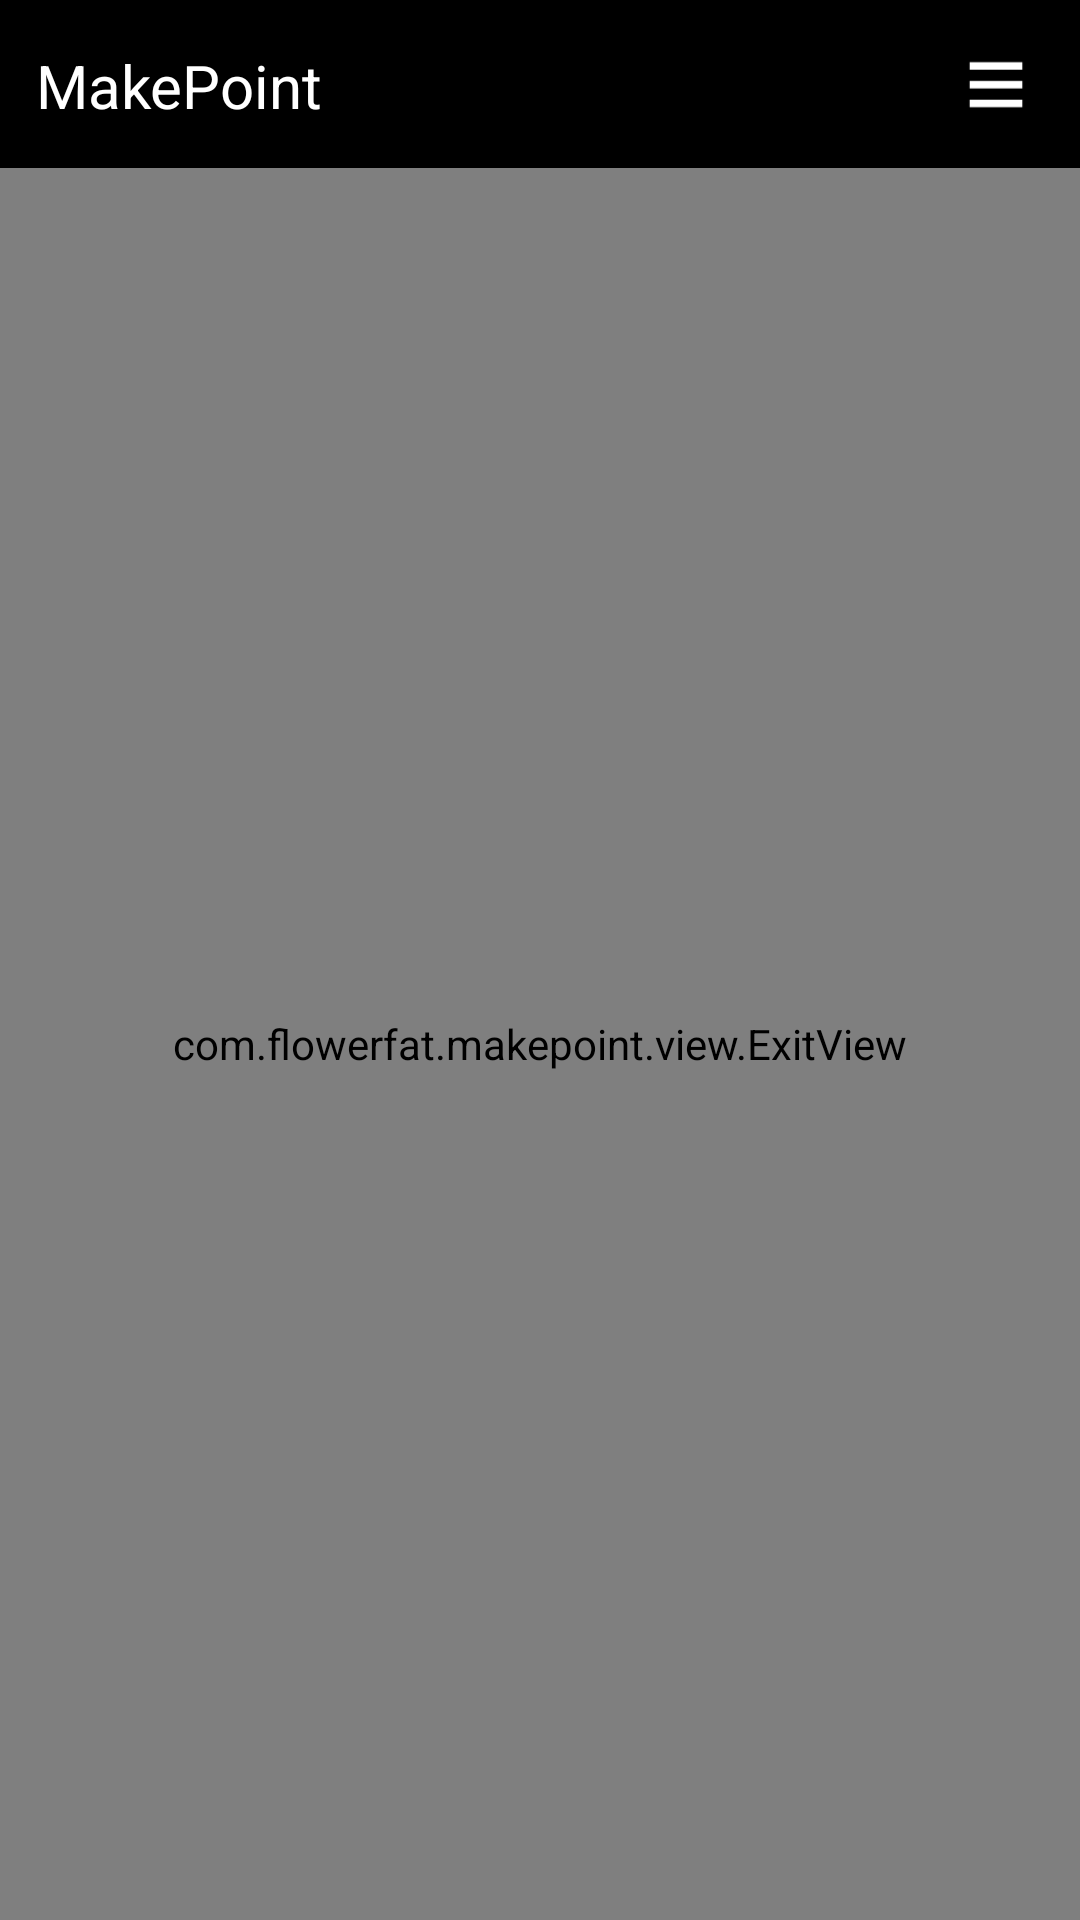

Named icons in this screenshot (1080 x 1920) and their centers, (x=x, y=y):
list: (x=996, y=84)
